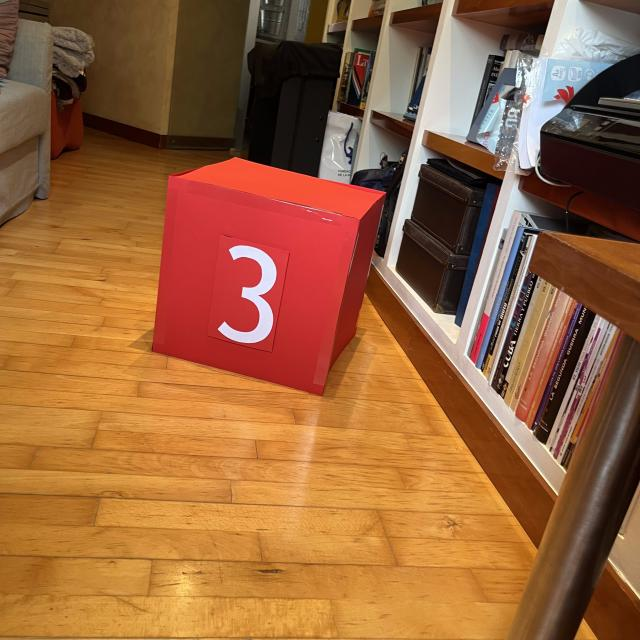box: (148, 153, 387, 397)
